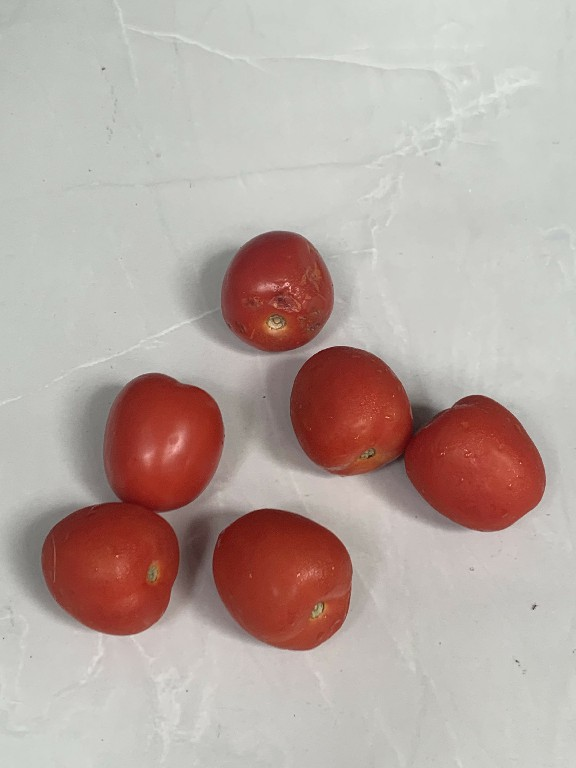NG: (222, 225, 329, 346)
OK: (208, 508, 360, 659), (400, 396, 556, 539), (36, 500, 181, 643), (100, 364, 224, 509), (293, 344, 407, 479)
